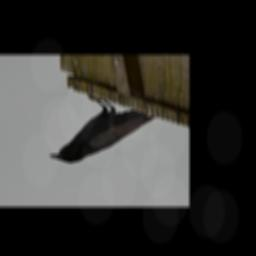Crow: (49, 94, 157, 164)
